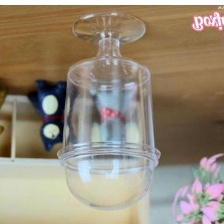glass: (50, 8, 164, 216)
